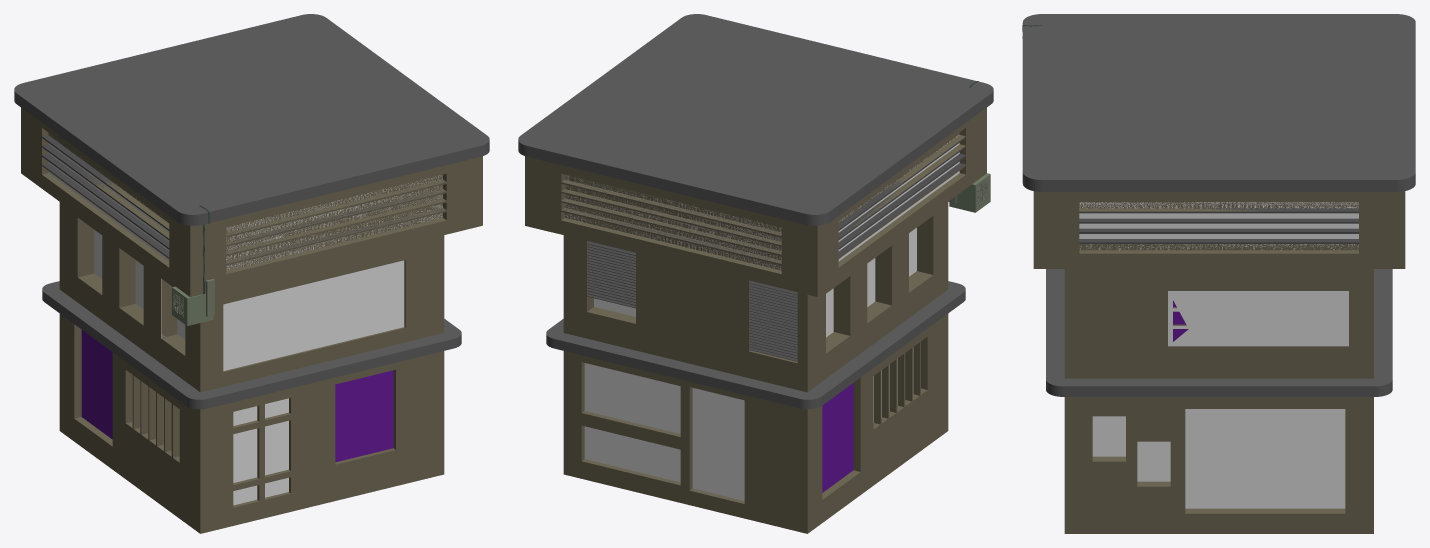
File: Mur.fbx
3 views of the same model, side by side, from view 1: azimuth 30°, elevation 25°; view 2: azimuth 150°, elevation 25°; view 3: azimuth 270°, elevation 25° (orthographic). The views are drawn at different scales.
Visible parts, largest first — view 1: base, toit, chambre, toit.001, Pompechaleur; view 2: base, toit, chambre, toit.001, Pompechaleur; view 3: base, toit, chambre, toit.001.
Boxes of the visible parts, x1,y1,x2,y2 form: base: [59, 202, 444, 533]; toit: [14, 14, 489, 225]; chambre: [21, 107, 482, 297]; toit.001: [42, 281, 461, 409]; Pompechaleur: [172, 286, 213, 325]; base: [563, 202, 948, 533]; toit: [518, 14, 993, 225]; chambre: [525, 107, 986, 296]; toit.001: [546, 281, 965, 409]; Pompechaleur: [949, 173, 990, 212]; base: [1064, 269, 1373, 533]; toit: [1022, 14, 1415, 191]; chambre: [1033, 191, 1405, 268]; toit.001: [1046, 269, 1392, 396].
Size of the model in its own units: 1269 by 1326 by 1271.
